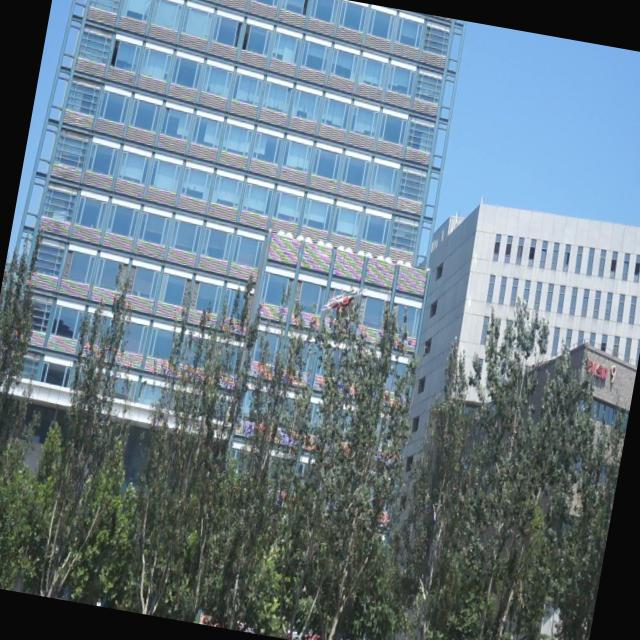drone: (322, 284, 356, 318)
